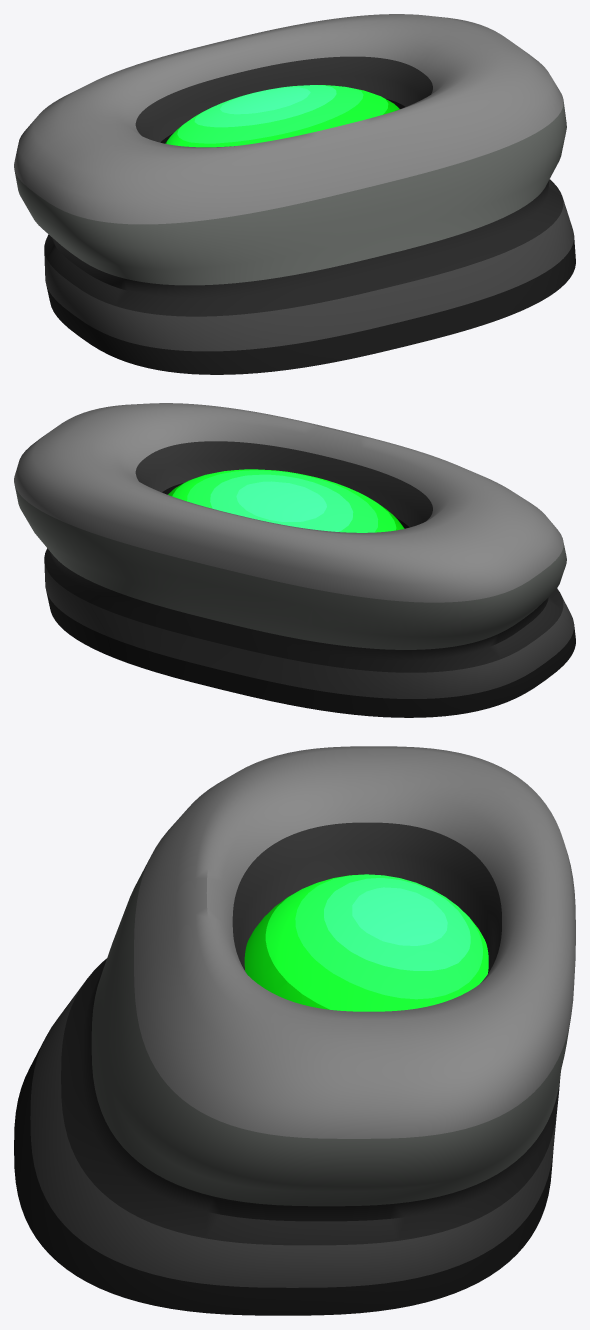
File: lens_pad_81.glb
3 views of the same model, one above another, from view 1: azimuth 30°, elevation 25°; view 2: azimuth 150°, elevation 25°; view 3: azimuth 270°, elevation 25° (orthographic). The views are drawn at different scales.
Parts seen in each view (by area): view 1: pad, lens; view 2: pad, lens; view 3: pad, lens.
Boxes of the visible parts, <box> form: pad: <box>14,14,575,374</box>; lens: <box>165,85,399,147</box>; pad: <box>14,403,575,717</box>; lens: <box>168,469,404,532</box>; pad: <box>14,746,575,1315</box>; lens: <box>244,874,488,1011</box>.
Size of the model in its own units: 18.2 by 5.98 by 11.95.
